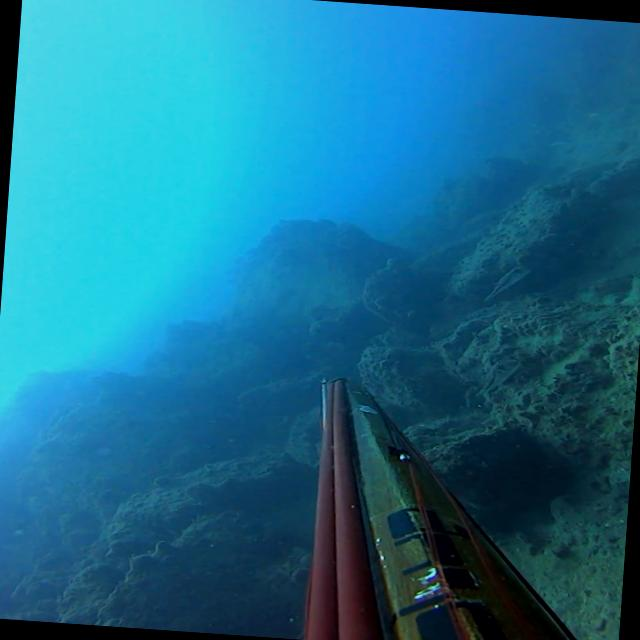Balon Baligi: (482, 262, 533, 303), (474, 356, 520, 398)
